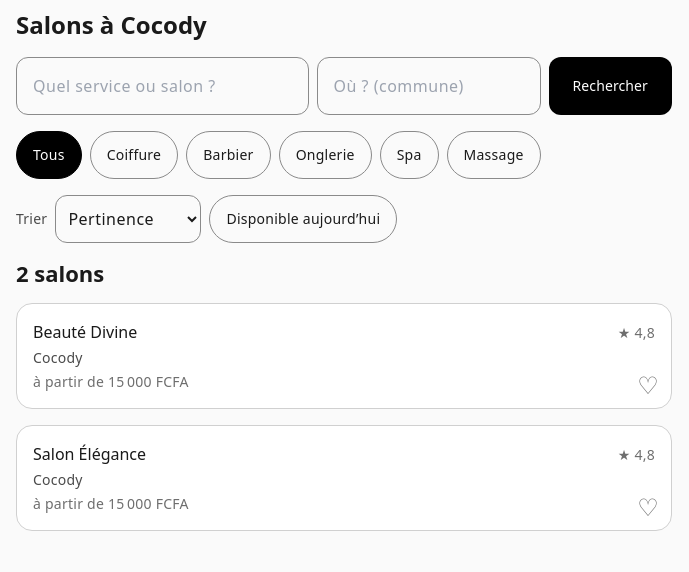
Test case: B5.4 — the search ♥ says what it did › a ♥ that failed announces nothing — its sentence is under the card
This screenshot has width=689, height=572.
Click the button named "Ajouter Beauté Divine aux favoris" at (648, 385), box [624, 361, 672, 409]
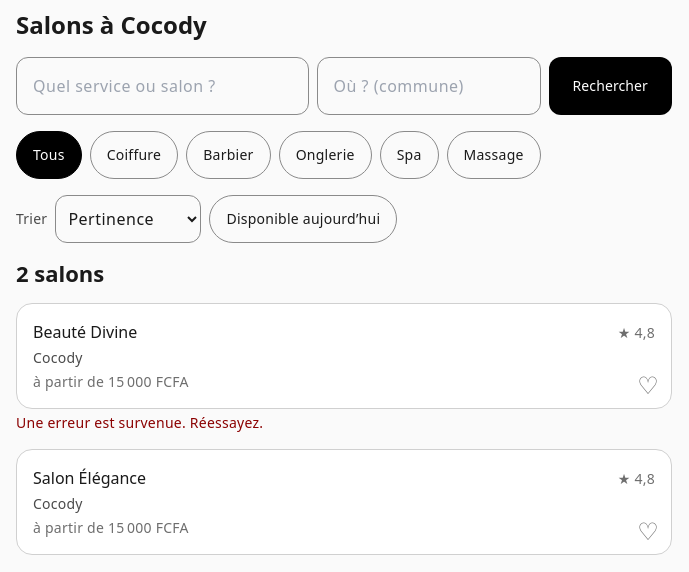
Check: the message "Une erreur est survenue. Réessayez." is shown, box [16, 413, 263, 432]
